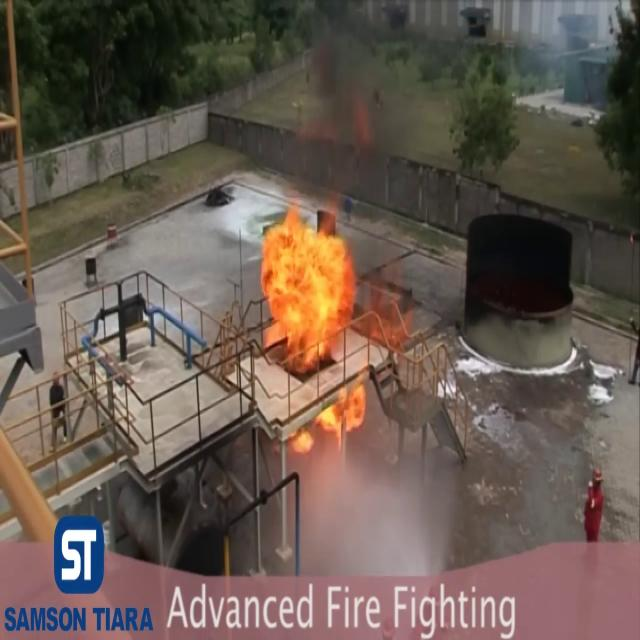Fire: (253, 197, 369, 375)
